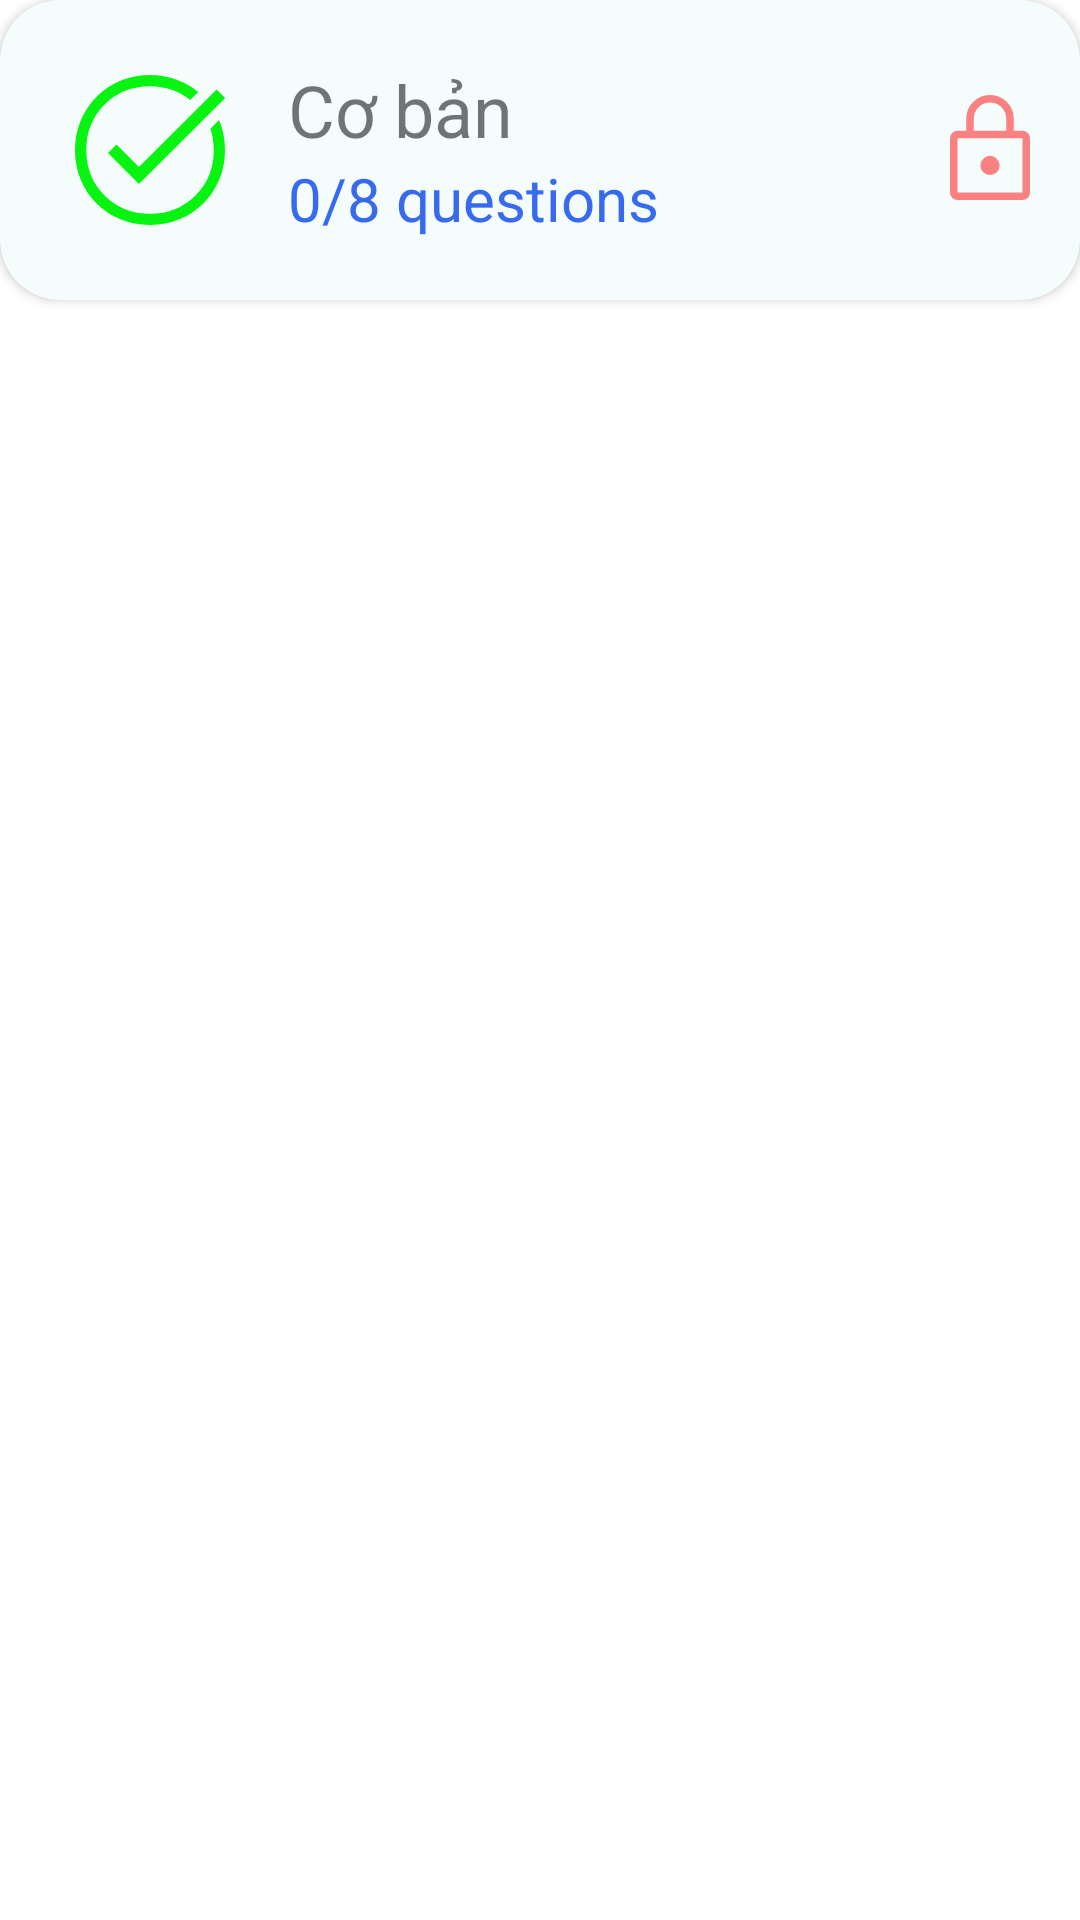

Where icons sit on this 1080 × 1920 app screen, as (x1, y1, x2, y2):
check: (75, 75, 225, 225)
lock: (950, 95, 1030, 200)
